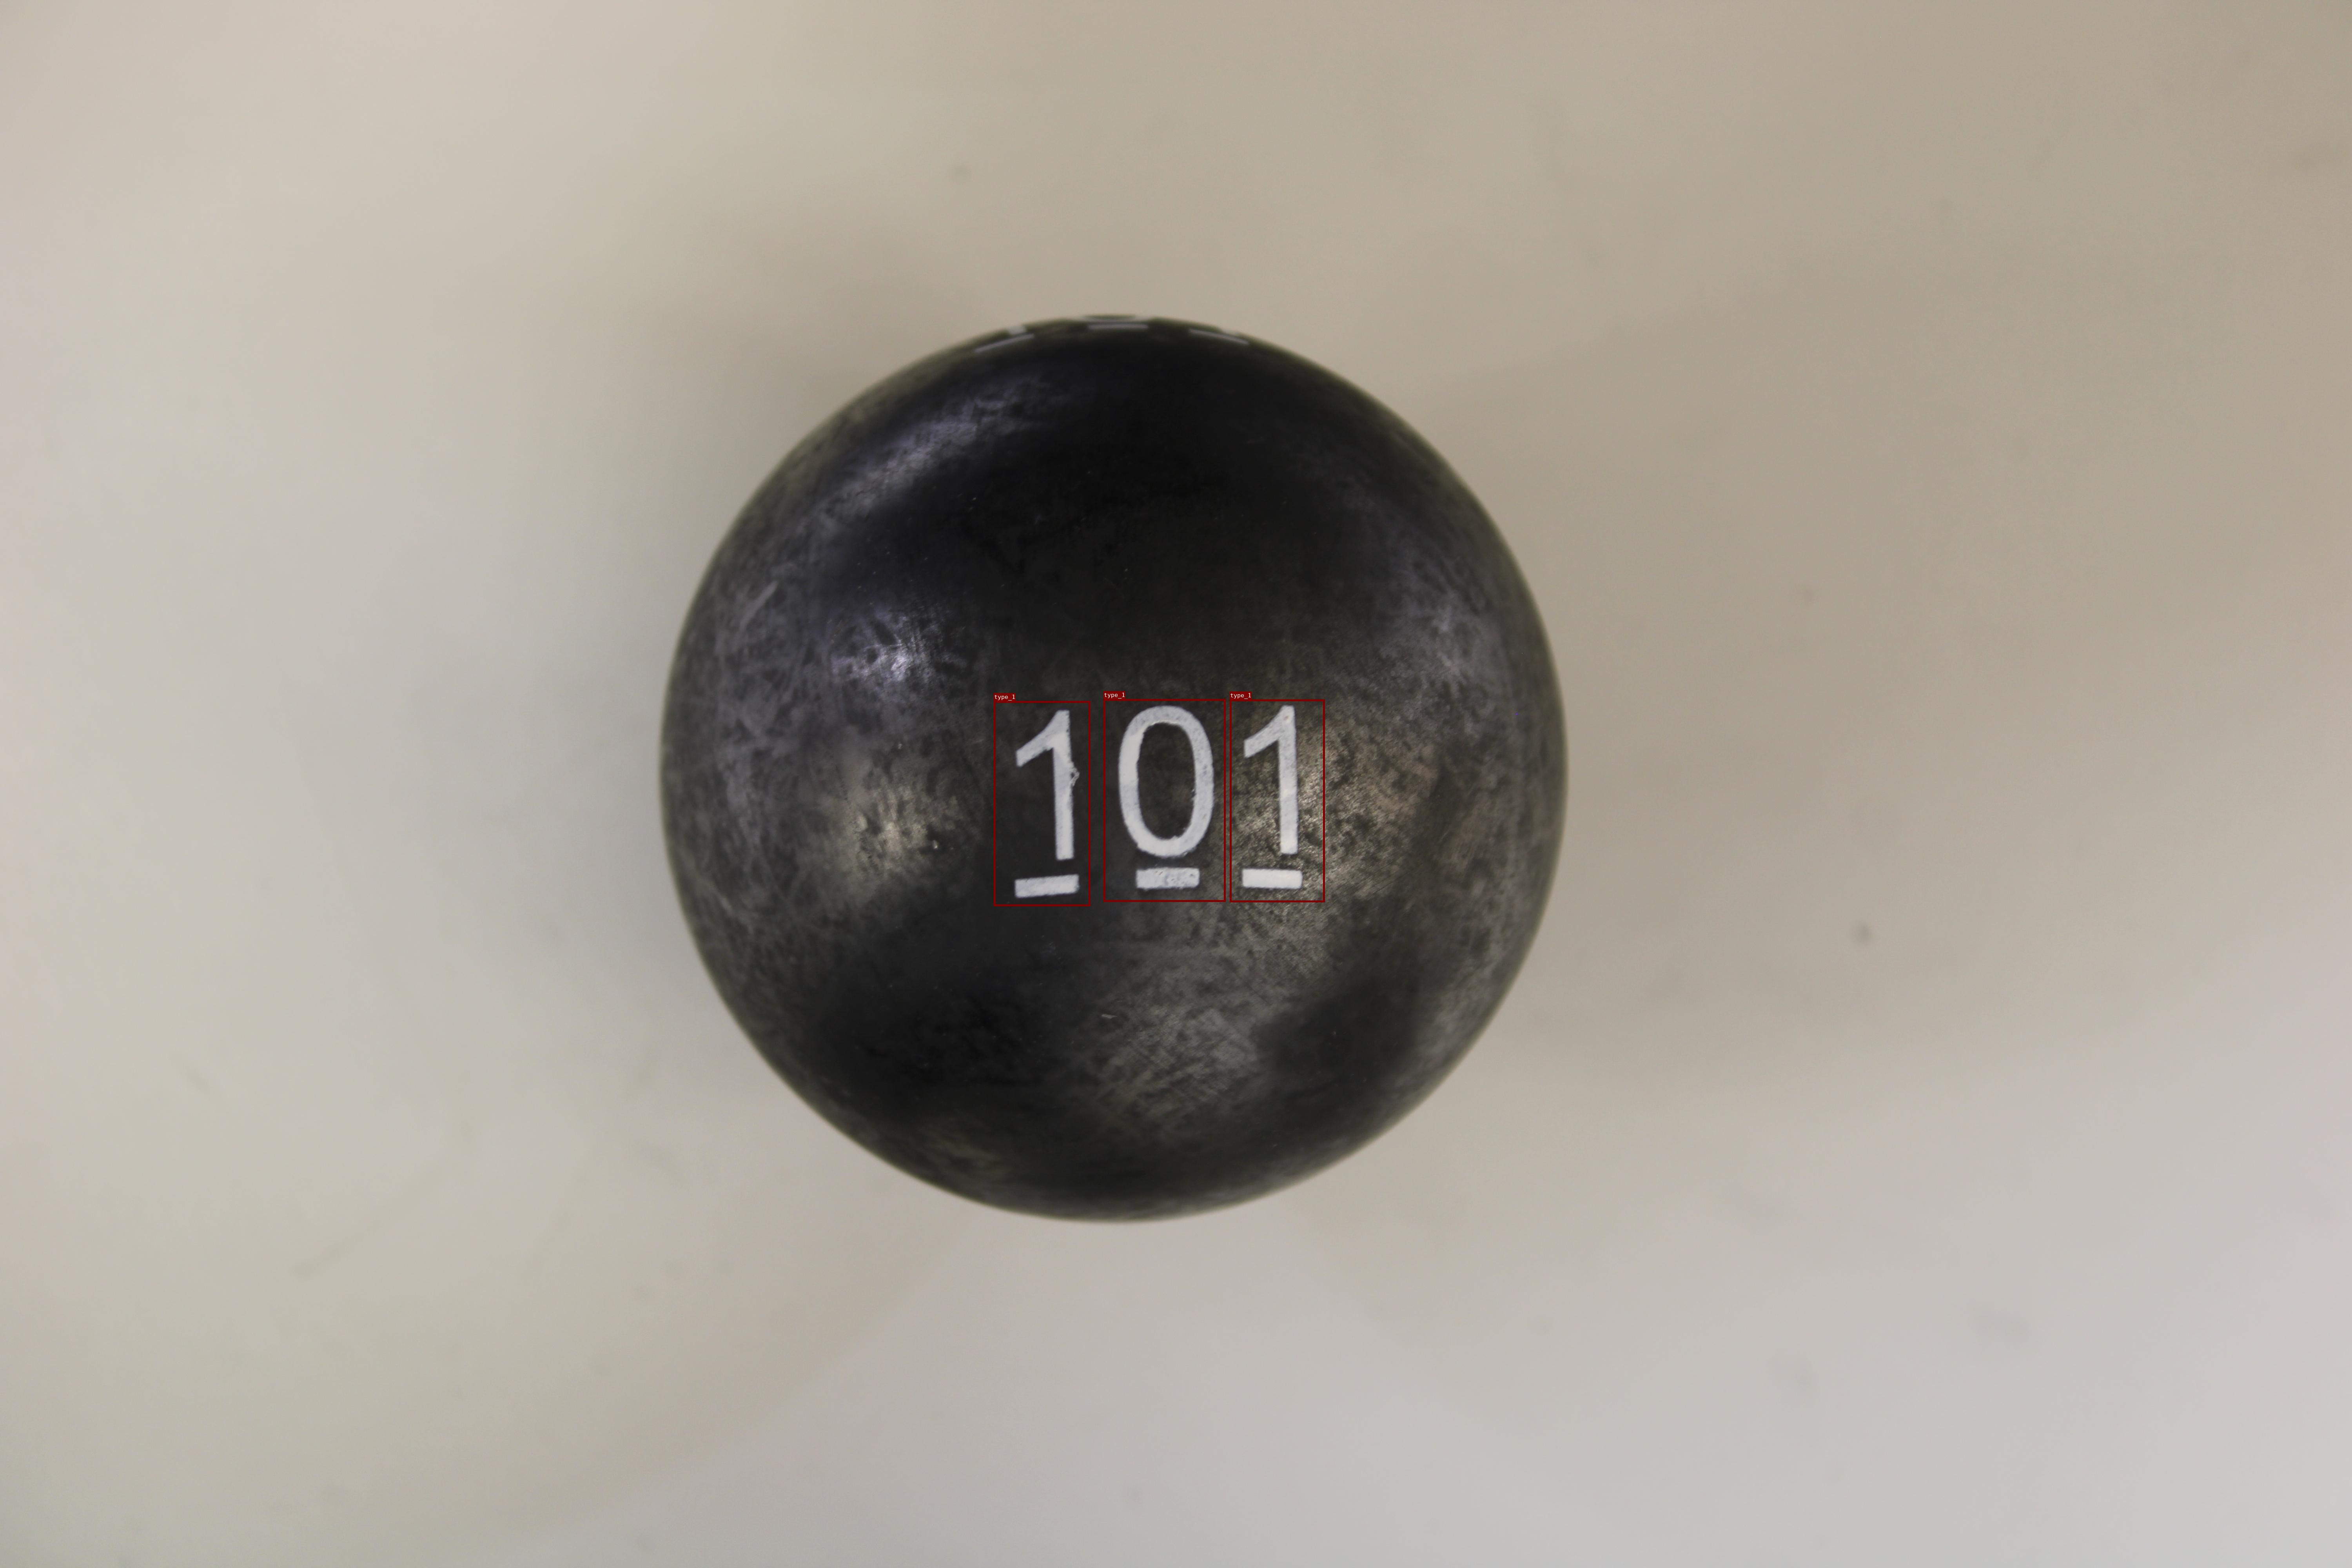type_1: (1104, 698, 1225, 901), (994, 702, 1090, 906), (1230, 700, 1325, 901)
